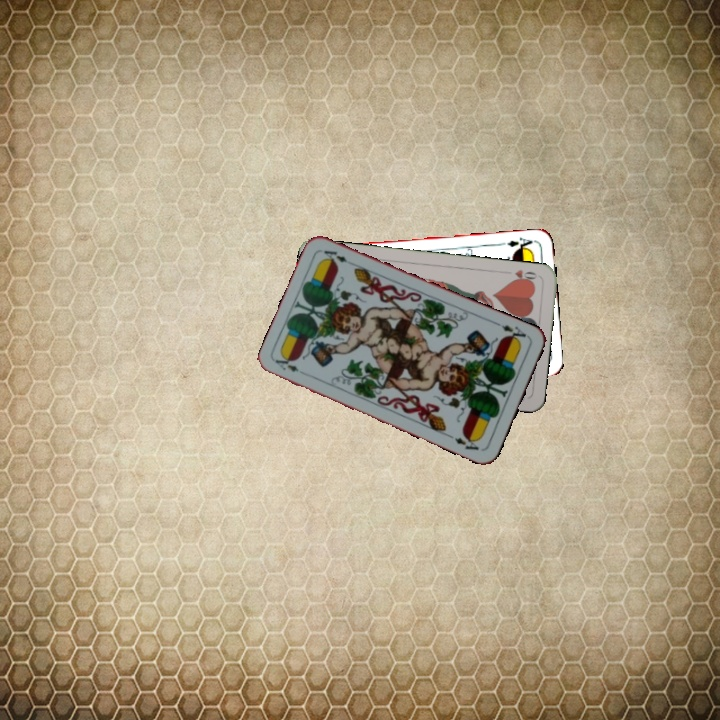EA: (492, 319, 531, 345), (503, 234, 538, 253), (271, 353, 301, 374)
HO: (507, 266, 541, 286)
